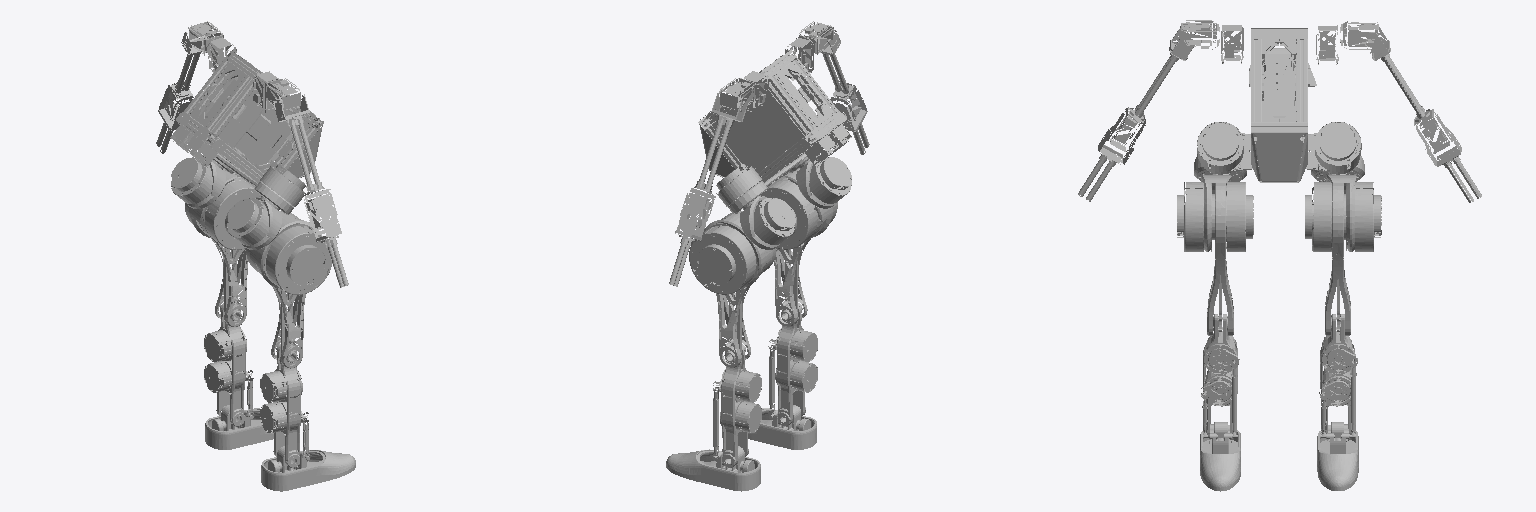
URDF robot description (irmv_v2_0319):
<?xml version="1.0" encoding="utf-8"?>
<!-- This URDF was automatically created by SolidWorks to URDF Exporter! Originally created by [author] ([email redacted]) 
     Commit Version: 1.6.0-4-g7f85cfe  Build Version: 1.6.7995.38578
     For more information, please see http://wiki.ros.org/sw_urdf_exporter -->
<robot
  name="irmv_v2_0319">
  <!-- <mujoco>
        <compiler 
        meshdir="./meshes/" 
        balanceinertia="true" 
        discardvisual="false" />
  </mujoco> -->


  <link
    name="Link_base">
    <inertial>
      <origin
        xyz="-0.015775 -3.32E-05 0.1209"
        rpy="0 0 0" />
      <mass
        value="1.7973" />
      <inertia
        ixx="0.017873"
        ixy="-1.18E-06"
        ixz="-9.241E-05"
        iyy="0.0011627"
        iyz="-4.3E-07"
        izz="0.017859" />
    </inertial>
    <visual>
      <origin
        xyz="0 0 0"
        rpy="0 0 0" />
      <geometry>
        <mesh
          filename="./meshes/Link_base.STL" />
      </geometry>
      <material
        name="">
        <color
          rgba="0.75294 0.75294 0.75294 1" />
      </material>
    </visual>
    <collision>
      <origin
        xyz="0 0 0"
        rpy="0 0 0" />
      <geometry>
        <mesh
          filename="./meshes/Link_base.STL" />
      </geometry>
    </collision>
  </link>

<link
    name="Link_body">
    <inertial>
      <origin
        xyz="-0.017923 0.0012904 0.22071"
        rpy="0 0 0" />
      <mass
        value="4.93" />
      <inertia
        ixx="0.071345"
        ixy="0.0005038"
        ixz="-0.0050769"
        iyy="0.035788"
        iyz="6.077E-05"
        izz="0.061634" />
    </inertial>
    <visual>
      <origin
        xyz="0 0 0"
        rpy="0 0 0" />
      <geometry>
        <mesh
          filename="./meshes/Link_body.STL" />
      </geometry>
      <material
        name="">
        <color
          rgba="0.75294 0.75294 0.75294 1" />
      </material>
    </visual>
    <collision>
      <origin
        xyz="0 0 0"
        rpy="0 0 0" />
      <geometry>
        <mesh
          filename="./meshes/Link_body.STL" />
      </geometry>
    </collision>
  </link>

  <joint
    name="Joint_body"
    type="fixed">
    <origin
      xyz="0 0 0"
      rpy="0 0 0" />
    <parent
      link="Link_base" />
    <child
      link="Link_body" />
    <axis
      xyz="0 0 1" />
  </joint>

  <link
    name="Link_hip_l_yaw">
    <inertial>
      <origin
        xyz="0.0021922 -4.922E-05 0.0025535"
        rpy="0 0 0" />
      <mass
        value="0.9411" />
      <inertia
        ixx="0.00073271"
        ixy="-1.13E-06"
        ixz="9.736E-05"
        iyy="0.00068327"
        iyz="7.2E-07"
        izz="0.00076393" />
    </inertial>
    <visual>
      <origin
        xyz="0 0 0"
        rpy="0 0 0" />
      <geometry>
        <mesh
          filename="./meshes/Link_hip_l_yaw.STL" />
      </geometry>
      <material
        name="">
        <color
          rgba="0.75294 0.75294 0.75294 1" />
      </material>
    </visual>
    <collision>
      <origin
        xyz="0 0 0"
        rpy="0 0 0" />
      <geometry>
        <mesh
          filename="./meshes/Link_hip_l_yaw.STL" />
      </geometry>
    </collision>
  </link>
  <joint
    name="Joint_hip_l_yaw"
    type="revolute">
    <origin
      xyz="-0.068236 0.1 0.068236"
      rpy="0 0 0" />
    <parent
      link="Link_base" />
    <child
      link="Link_hip_l_yaw" />
    <axis
      xyz="0.70711 0 0.70711" />
    <limit
      lower="-1.5708"
      upper="1.5708"
      effort="35"
      velocity="3" />
  </joint>
  <link
    name="Link_hip_l_roll">
    <inertial>
      <origin
        xyz="-0.0033731 0.036973 0.0032853"
        rpy="0 0 0" />
      <mass
        value="1.7075" />
      <inertia
        ixx="0.0020338"
        ixy="0.00015887"
        ixz="-0.00012869"
        iyy="0.0031046"
        iyz="-0.00016472"
        izz="0.0020345" />
    </inertial>
    <visual>
      <origin
        xyz="0 0 0"
        rpy="0 0 0" />
      <geometry>
        <mesh
          filename="./meshes/Link_hip_l_roll.STL" />
      </geometry>
      <material
        name="">
        <color
          rgba="0.75294 0.75294 0.75294 1" />
      </material>
    </visual>
    <collision>
      <origin
        xyz="0 0 0"
        rpy="0 0 0" />
      <geometry>
        <mesh
          filename="./meshes/Link_hip_l_roll.STL" />
      </geometry>
    </collision>
  </link>
  <joint
    name="Joint_hip_l_roll"
    type="revolute">
    <origin
      xyz="0.068236 0 -0.068236"
      rpy="0 0 0" />
    <parent
      link="Link_hip_l_yaw" />
    <child
      link="Link_hip_l_roll" />
    <axis
      xyz="0.70711 0 -0.70711" />
    <limit
      lower="-1.5708"
      upper="1.5708"
      effort="35"
      velocity="3" />
  </joint>
  <link
    name="Link_hip_l_pitch">
    <inertial>
      <origin
        xyz="0.0011796 -0.016905 -0.026609"
        rpy="0 0 0" />
      <mass
        value="1.9602" />
      <inertia
        ixx="0.0087865"
        ixy="3.373E-05"
        ixz="-0.00012703"
        iyy="0.0095896"
        iyz="-0.00088229"
        izz="0.0018987" />
    </inertial>
    <visual>
      <origin
        xyz="0 0 0"
        rpy="0 0 0" />
      <geometry>
        <mesh
          filename="./meshes/Link_hip_l_pitch.STL" />
      </geometry>
      <material
        name="">
        <color
          rgba="0.75294 0.75294 0.75294 1" />
      </material>
    </visual>
    <collision>
      <origin
        xyz="0 0 0"
        rpy="0 0 0" />
      <geometry>
        <mesh
          filename="./meshes/Link_hip_l_pitch.STL" />
      </geometry>
    </collision>
  </link>
  <joint
    name="Joint_hip_l_pitch"
    type="revolute">
    <origin
      xyz="0 0 0"
      rpy="0 0 0" />
    <parent
      link="Link_hip_l_roll" />
    <child
      link="Link_hip_l_pitch" />
    <axis
      xyz="0 1 0" />
    <limit
      lower="-2.2689"
      upper="0.9948"
      effort="40"
      velocity="12" />
  </joint>
  <link
    name="Link_knee_l_pitch">
    <inertial>
      <origin
        xyz="-0.0066852 0.00034298 -0.093038"
        rpy="0 0 0" />
      <mass
        value="1.0785" />
      <inertia
        ixx="0.002539"
        ixy="1.046E-05"
        ixz="-6.296E-05"
        iyy="0.0025304"
        iyz="-3.58E-06"
        izz="0.00051393" />
    </inertial>
    <visual>
      <origin
        xyz="0 0 0"
        rpy="0 0 0" />
      <geometry>
        <mesh
          filename="./meshes/Link_knee_l_pitch.STL" />
      </geometry>
      <material
        name="">
        <color
          rgba="0.75294 0.75294 0.75294 1" />
      </material>
    </visual>
    <collision>
      <origin xyz="0.007 -0.005 -0.15" rpy="0 0 0"/>
      <geometry>
        <cylinder radius="0.03" length="0.02"/>
      </geometry>
    </collision>
  </link>
  <joint
    name="Joint_knee_l_pitch"
    type="revolute">
    <origin
      xyz="0 0 -0.2"
      rpy="0 0 0" />
    <parent
      link="Link_hip_l_pitch" />
    <child
      link="Link_knee_l_pitch" />
    <axis
      xyz="0 1 0" />
    <limit
      lower="0"
      upper="2.0944"
      effort="40"
      velocity="12" />
  </joint>
  <link
    name="Link_ankle_l_pitch">
    <inertial>
      <origin
        xyz="0 -0.00061416 -0.010352"
        rpy="0 0 0" />
      <mass
        value="0.058811" />
      <inertia
        ixx="9.9632E-06"
        ixy="-1.0683E-20"
        ixz="2.5225E-21"
        iyy="1.6724E-05"
        iyz="4.3857E-20"
        izz="1.0652E-05" />
    </inertial>
    <visual>
      <origin
        xyz="0 0 0"
        rpy="0 0 0" />
      <geometry>
        <mesh
          filename="./meshes/Link_ankle_l_pitch.STL" />
      </geometry>
      <material
        name="">
        <color
          rgba="0.75294 0.75294 0.75294 1" />
      </material>
    </visual>
    <collision>
      <origin
        xyz="0 0 0"
        rpy="0 0 0" />
      <geometry>
        <mesh
          filename="./meshes/Link_ankle_l_pitch.STL" />
      </geometry>
    </collision>
  </link>
  <joint
    name="Joint_ankle_l_pitch"
    type="revolute">
    <origin
      xyz="0 0 -0.2"
      rpy="0 0 0" />
    <parent
      link="Link_knee_l_pitch" />
    <child
      link="Link_ankle_l_pitch" />
    <axis
      xyz="0 1 0" />
    <limit
      lower="-0.7854"
      upper="0.8727"
      effort="30"
      velocity="6" />
  </joint>
  <link
    name="Link_ankle_l_roll">
    <inertial>
      <origin
        xyz="0.021459 0 -0.01976"
        rpy="0 0 0" />
      <mass
        value="0.32291" />
      <inertia
        ixx="6.837E-05"
        ixy="-1.6692E-05"
        ixz="4.4053E-06"
        iyy="0.00031616"
        iyz="4.5799E-07"
        izz="0.00032322" />
    </inertial>
    <visual>
      <origin
        xyz="0 0 0"
        rpy="0 0 0" />
      <geometry>
        <mesh
          filename="./meshes/Link_ankle_l_roll.STL" />
      </geometry>
      <material
        name="">
        <color
          rgba="0.75294 0.75294 0.75294 1" />
      </material>
    </visual>
    <collision>
      <origin
        xyz="0 0 0"
        rpy="0 0 0" />
      <geometry>
        <mesh
          filename="./meshes/Link_ankle_l_roll.STL" />
      </geometry>
    </collision>
  </link>
  <joint
    name="Joint_ankle_l_roll"
    type="fixed">
    <origin
      xyz="0 0 -0.018"
      rpy="0 0 0" />
    <parent
      link="Link_ankle_l_pitch" />
    <child
      link="Link_ankle_l_roll" />
    <axis
      xyz="1 0 0" />
  </joint>
  <link
    name="Link_hip_r_yaw">
    <inertial>
      <origin
        xyz="0.0021922 4.922E-05 0.0025535"
        rpy="0 0 0" />
      <mass
        value="0.9411" />
      <inertia
        ixx="0.00073271"
        ixy="1.13E-06"
        ixz="9.736E-05"
        iyy="0.00068327"
        iyz="-7.2E-07"
        izz="0.00076393" />
    </inertial>
    <visual>
      <origin
        xyz="0 0 0"
        rpy="0 0 0" />
      <geometry>
        <mesh
          filename="./meshes/Link_hip_r_yaw.STL" />
      </geometry>
      <material
        name="">
        <color
          rgba="0.75294 0.75294 0.75294 1" />
      </material>
    </visual>
    <collision>
      <origin
        xyz="0 0 0"
        rpy="0 0 0" />
      <geometry>
        <mesh
          filename="./meshes/Link_hip_r_yaw.STL" />
      </geometry>
    </collision>
  </link>
  <joint
    name="Joint_hip_r_yaw"
    type="revolute">
    <origin
      xyz="-0.068236 -0.1 0.068236"
      rpy="0 0 0" />
    <parent
      link="Link_base" />
    <child
      link="Link_hip_r_yaw" />
    <axis
      xyz="0.70711 0 0.70711" />
    <limit
      lower="-1.5708"
      upper="1.5708"
      effort="35"
      velocity="3" />
  </joint>
  <link
    name="Link_hip_r_roll">
    <inertial>
      <origin
        xyz="-0.0033731 -0.036973 0.0032853"
        rpy="0 0 0" />
      <mass
        value="1.7075" />
      <inertia
        ixx="0.0020338"
        ixy="-0.00015887"
        ixz="-0.00012869"
        iyy="0.0031046"
        iyz="0.00016472"
        izz="0.0020345" />
    </inertial>
    <visual>
      <origin
        xyz="0 0 0"
        rpy="0 0 0" />
      <geometry>
        <mesh
          filename="./meshes/Link_hip_r_roll.STL" />
      </geometry>
      <material
        name="">
        <color
          rgba="0.75294 0.75294 0.75294 1" />
      </material>
    </visual>
    <collision>
      <origin
        xyz="0 0 0"
        rpy="0 0 0" />
      <geometry>
        <mesh
          filename="./meshes/Link_hip_r_roll.STL" />
      </geometry>
    </collision>
  </link>
  <joint
    name="Joint_hip_r_roll"
    type="revolute">
    <origin
      xyz="0.068236 0 -0.068236"
      rpy="0 0 0" />
    <parent
      link="Link_hip_r_yaw" />
    <child
      link="Link_hip_r_roll" />
    <axis
      xyz="0.70711 0 -0.70711" />
    <limit
      lower="-1.5708"
      upper="1.5708"
      effort="35"
      velocity="3" />
  </joint>
  <link
    name="Link_hip_r_pitch">
    <inertial>
      <origin
        xyz="0.00117955 0.01690499 -0.02660882"
        rpy="0 0 0" />
      <mass
        value="1.9602" />
      <inertia
        ixx="0.0087865"
        ixy="-3.373E-05"
        ixz="-0.00012703"
        iyy="0.0095896"
        iyz="0.00088229"
        izz="0.0018987" />
    </inertial>
    <visual>
      <origin
        xyz="0 0 0"
        rpy="0 0 0" />
      <geometry>
        <mesh
          filename="./meshes/Link_hip_r_pitch.STL" />
      </geometry>
      <material
        name="">
        <color
          rgba="0.75294 0.75294 0.75294 1" />
      </material>
    </visual>
    <collision>
      <origin
        xyz="0 0 0"
        rpy="0 0 0" />
      <geometry>
        <mesh
          filename="./meshes/Link_hip_r_pitch.STL" />
      </geometry>
    </collision>
  </link>
  <joint
    name="Joint_hip_r_pitch"
    type="revolute">
    <origin
      xyz="0 0 0"
      rpy="0 0 0" />
    <parent
      link="Link_hip_r_roll" />
    <child
      link="Link_hip_r_pitch" />
    <axis
      xyz="0 1 0" />
    <limit
      lower="-2.2689"
      upper="0.9948"
      effort="40"
      velocity="12" />
  </joint>
  <link
    name="Link_knee_r_pitch">
    <inertial>
      <origin
        xyz="-0.0066852 -0.00034298 -0.093038"
        rpy="0 0 0" />
      <mass
        value="1.0785" />
      <inertia
        ixx="0.002539"
        ixy="-1.046E-05"
        ixz="-6.296E-05"
        iyy="0.0025304"
        iyz="3.58E-06"
        izz="0.00051393" />
    </inertial>
    <visual>
      <origin
        xyz="0 0 0"
        rpy="0 0 0" />
      <geometry>
        <mesh
          filename="./meshes/Link_knee_r_pitch.STL" />
      </geometry>
      <material
        name="">
        <color
          rgba="0.75294 0.75294 0.75294 1" />
      </material>
    </visual>
    <collision>
      <origin xyz="0.007 -0.005 -0.15" rpy="0 0 0"/>
      <geometry>
        <cylinder radius="0.03" length="0.02"/>
      </geometry>
    </collision>
  </link>
  <joint
    name="Joint_knee_r_pitch"
    type="revolute">
    <origin
      xyz="0 0 -0.2"
      rpy="0 0 0" />
    <parent
      link="Link_hip_r_pitch" />
    <child
      link="Link_knee_r_pitch" />
    <axis
      xyz="0 1 0" />
    <limit
      lower="0"
      upper="2.0944"
      effort="40"
      velocity="12" />
  </joint>
  <link
    name="Link_ankle_r_pitch">
    <inertial>
      <origin
        xyz="0 0.00061416 -0.010352"
        rpy="0 0 0" />
      <mass
        value="0.058811" />
      <inertia
        ixx="9.9632E-06"
        ixy="5.6296E-20"
        ixz="-2.5023E-21"
        iyy="1.6724E-05"
        iyz="-3.9436E-20"
        izz="1.0652E-05" />
    </inertial>
    <visual>
      <origin
        xyz="0 0 0"
        rpy="0 0 0" />
      <geometry>
        <mesh
          filename="./meshes/Link_ankle_r_pitch.STL" />
      </geometry>
      <material
        name="">
        <color
          rgba="0.75294 0.75294 0.75294 1" />
      </material>
    </visual>
    <collision>
      <origin
        xyz="0 0 0"
        rpy="0 0 0" />
      <geometry>
        <mesh
          filename="./meshes/Link_ankle_r_pitch.STL" />
      </geometry>
    </collision>
  </link>
  <joint
    name="Joint_ankle_r_pitch"
    type="revolute">
    <origin
      xyz="0 0 -0.2"
      rpy="0 0 0" />
    <parent
      link="Link_knee_r_pitch" />
    <child
      link="Link_ankle_r_pitch" />
    <axis
      xyz="0 1 0" />
    <limit
      lower="-0.7854"
      upper="0.8727"
      effort="30"
      velocity="6" />
  </joint>
  <link
    name="Link_ankle_r_roll">
    <inertial>
      <origin
        xyz="0.0214588 0 -0.01975951"
        rpy="0 0 0" />
      <mass
        value="0.32291" />
      <inertia
        ixx="6.837E-05"
        ixy="1.6693E-05"
        ixz="4.4053E-06"
        iyy="0.00031616"
        iyz="-4.5795E-07"
        izz="0.00032322" />
    </inertial>
    <visual>
      <origin
        xyz="0 0 0"
        rpy="0 0 0" />
      <geometry>
        <mesh
          filename="./meshes/Link_ankle_r_roll.STL" />
      </geometry>
      <material
        name="">
        <color
          rgba="0.75294 0.75294 0.75294 1" />
      </material>
    </visual>
    <collision>
      <origin
        xyz="0 0 0"
        rpy="0 0 0" />
      <geometry>
        <mesh
          filename="./meshes/Link_ankle_r_roll.STL" />
      </geometry>
    </collision>
  </link>
  <joint
    name="Joint_ankle_r_roll"
    type="fixed">
    <origin
      xyz="0 0 -0.018"
      rpy="0 0 0" />
    <parent
      link="Link_ankle_r_pitch" />
    <child
      link="Link_ankle_r_roll" />
    <axis
      xyz="1 0 0" />
  </joint>
</robot>

--- Facts derived from the render (not from the file) ---
3 views of the same robot in one strip: view 1: azimuth 30°, elevation 25°; view 2: azimuth 150°, elevation 25°; view 3: azimuth 270°, elevation 25° (orthographic).
Robot: irmv_v2_0319 — 14 links, 13 joints (10 revolute, 3 fixed); root link Link_base; default pose: all joints at 0.
Visible links, largest first — view 1: Link_body, Link_hip_r_roll, Link_knee_l_pitch, Link_hip_l_pitch, Link_knee_r_pitch, Link_ankle_r_roll, Link_hip_r_yaw, Link_hip_l_yaw, Link_hip_r_pitch, Link_base, Link_ankle_l_roll; view 2: Link_body, Link_hip_l_roll, Link_knee_r_pitch, Link_knee_l_pitch, Link_hip_r_pitch, Link_ankle_l_roll, Link_hip_l_yaw, Link_hip_r_yaw, Link_hip_l_pitch, Link_base, Link_ankle_r_roll; view 3: Link_body, Link_base, Link_hip_l_pitch, Link_hip_r_pitch, Link_knee_l_pitch, Link_knee_r_pitch, Link_hip_r_roll, Link_hip_l_roll, Link_ankle_l_roll, Link_ankle_r_roll.
Link boxes in pixels (x1=…): Link_body: x1=156, y1=21, x2=348, y2=287; Link_hip_r_roll: x1=249, y1=214, x2=331, y2=294; Link_knee_l_pitch: x1=204, y1=301, x2=253, y2=426; Link_hip_l_pitch: x1=200, y1=177, x2=260, y2=326; Link_knee_r_pitch: x1=260, y1=343, x2=309, y2=467; Link_ankle_r_roll: x1=261, y1=450, x2=355, y2=491; Link_hip_r_yaw: x1=227, y1=196, x2=282, y2=249; Link_hip_l_yaw: x1=171, y1=155, x2=225, y2=208; Link_hip_r_pitch: x1=246, y1=211, x2=305, y2=368; Link_base: x1=213, y1=153, x2=305, y2=214; Link_ankle_l_roll: x1=205, y1=408, x2=273, y2=449; Link_body: x1=669, y1=21, x2=869, y2=286; Link_hip_l_roll: x1=689, y1=213, x2=772, y2=294; Link_knee_r_pitch: x1=768, y1=300, x2=817, y2=425; Link_knee_l_pitch: x1=712, y1=342, x2=761, y2=467; Link_hip_r_pitch: x1=761, y1=177, x2=821, y2=326; Link_ankle_l_roll: x1=666, y1=449, x2=760, y2=491; Link_hip_l_yaw: x1=740, y1=195, x2=795, y2=249; Link_hip_r_yaw: x1=796, y1=155, x2=851, y2=208; Link_hip_l_pitch: x1=716, y1=211, x2=775, y2=367; Link_base: x1=716, y1=152, x2=808, y2=214; Link_ankle_r_roll: x1=748, y1=408, x2=816, y2=449; Link_body: x1=1078, y1=20, x2=1481, y2=202; Link_base: x1=1197, y1=122, x2=1361, y2=174; Link_hip_l_pitch: x1=1305, y1=182, x2=1350, y2=335; Link_hip_r_pitch: x1=1207, y1=182, x2=1253, y2=335; Link_knee_l_pitch: x1=1319, y1=314, x2=1357, y2=441; Link_knee_r_pitch: x1=1201, y1=314, x2=1239, y2=435; Link_hip_r_roll: x1=1177, y1=174, x2=1231, y2=251; Link_hip_l_roll: x1=1326, y1=174, x2=1381, y2=251; Link_ankle_l_roll: x1=1317, y1=431, x2=1358, y2=490; Link_ankle_r_roll: x1=1200, y1=430, x2=1240, y2=491.
Size in the robot's own frame: 0.2968 by 0.6892 by 0.8006 metres.
Meshes: 14 distinct files referenced, 14 mesh visuals loaded (14 binary STL).